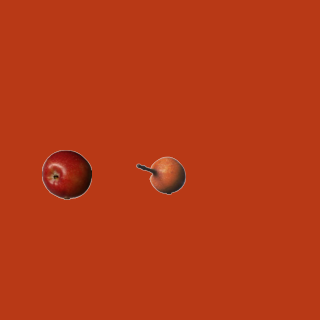Apple Braeburn: (41, 149, 91, 199)
Granadilla: (135, 150, 185, 200)
